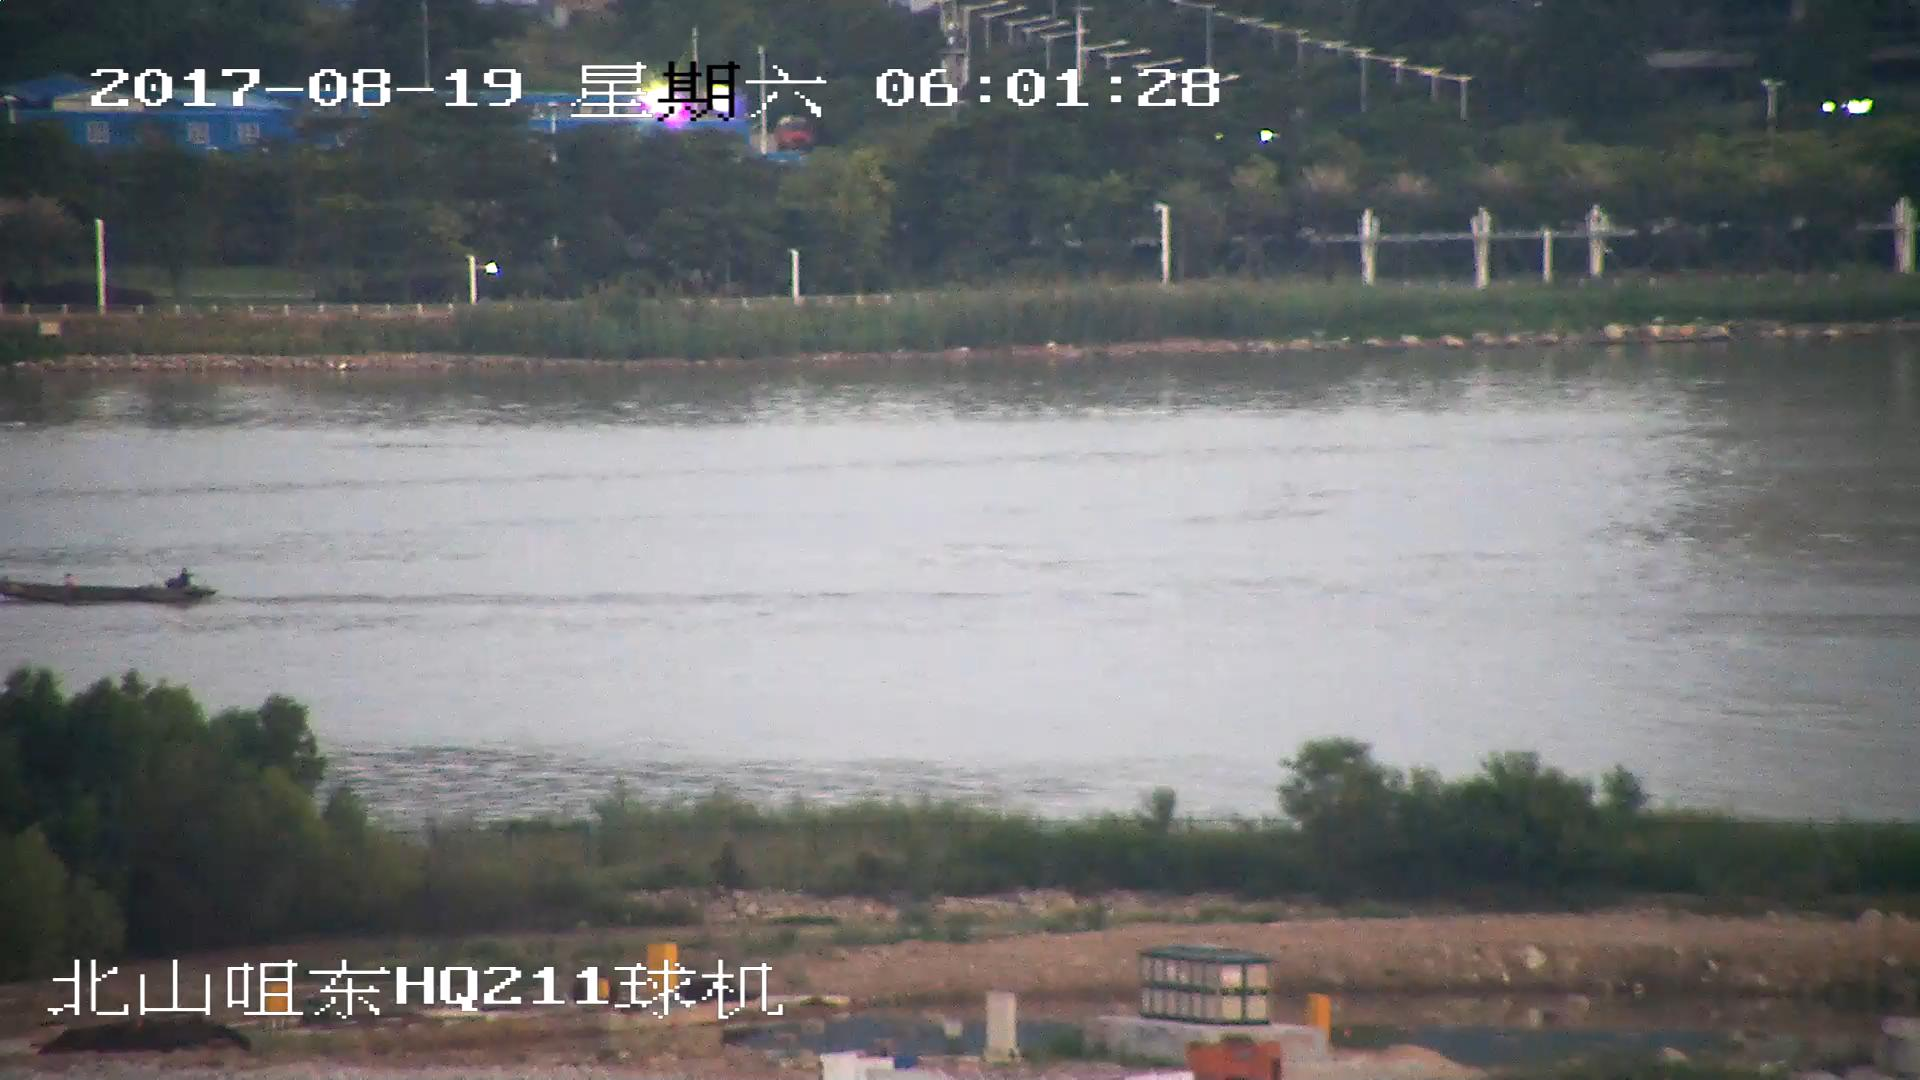fishing boat: (1, 569, 217, 608)
